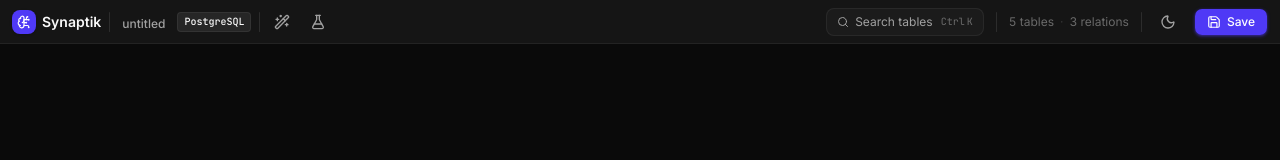
Test: FlowToolbar › reverts to last valid name on Escape
Double-click the button with aria-label "rename project" at point(144, 24), box [118, 16, 169, 32]
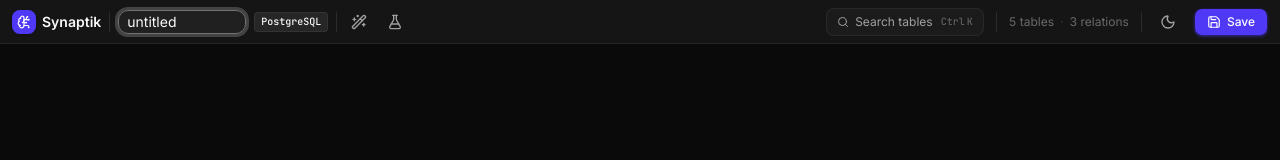
Replace the text in the field with "Invalid Change" at point(182, 22), box [118, 10, 246, 34]
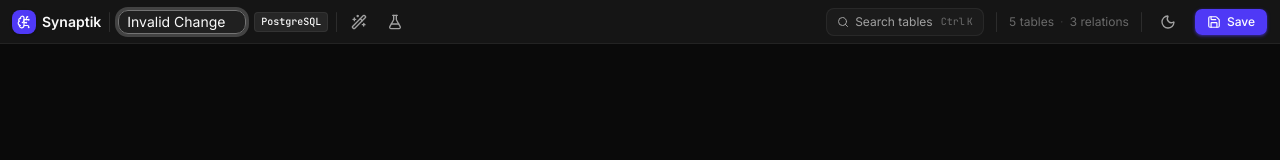
Press Escape in the field, box [118, 10, 246, 34]
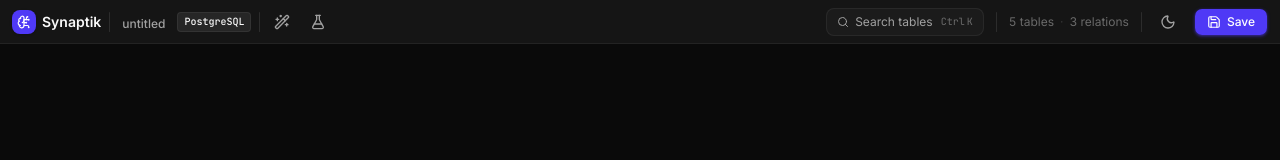
Result: the field is gone
Result: the button "untitled" is shown at [118, 16, 169, 32]
